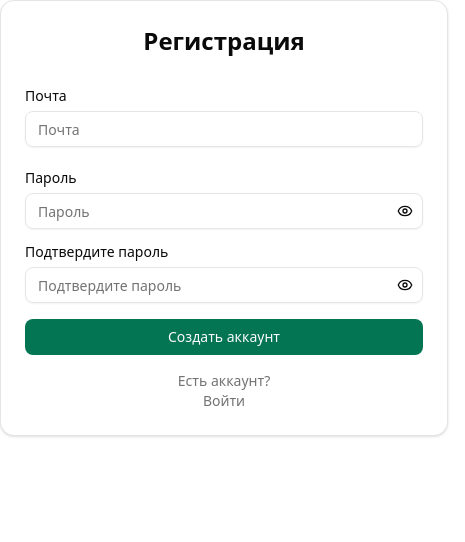
Test: RegisterForm › should show validation errors on submit with invalid email
Type "test@test.com" into the field.
click(224, 129); type("test@test.com")  # box [25,111,423,147]
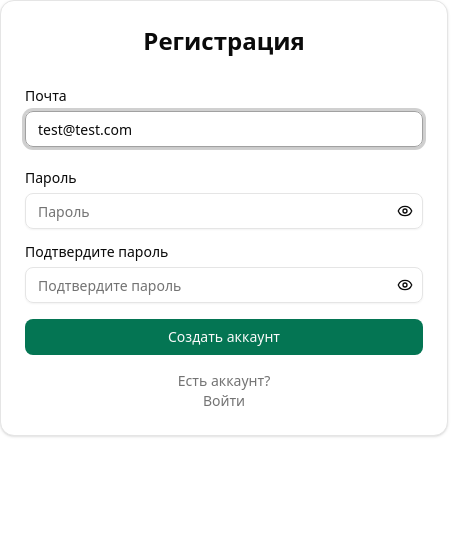
Click the button "Создать аккаунт".
click(224, 337)  # box [25,319,423,355]
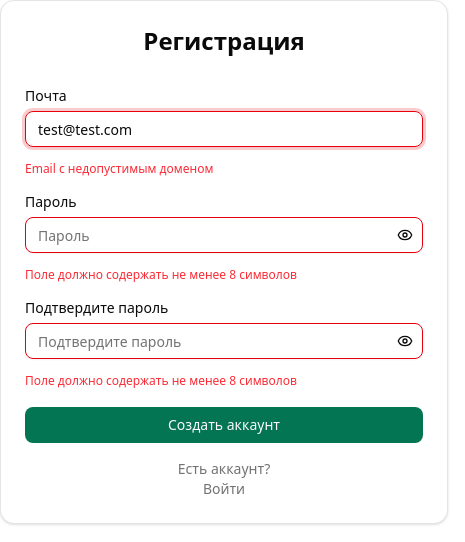
Result: the text with test id "email_error" reads "Email с недопустимым доменом" at [25,160,213,177]
